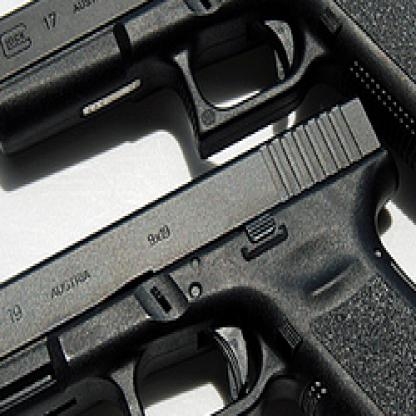gun: (0, 77, 415, 414), (0, 0, 415, 267)
